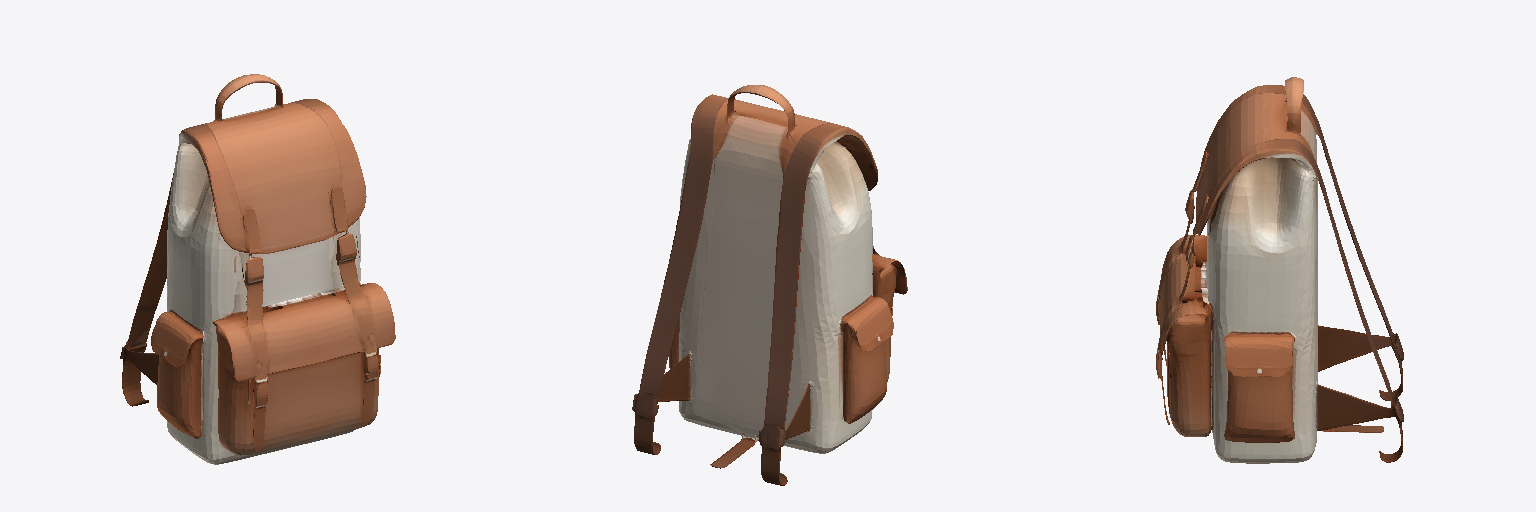
3 renders of one model, left to right at view 1: azimuth 30°, elevation 25°; view 2: azimuth 150°, elevation 25°; view 3: azimuth 270°, elevation 25°, orthographic.
Bounding box in the file's own units: 1.16 × 1.9 × 1.22.
1 materials, 1 textured.